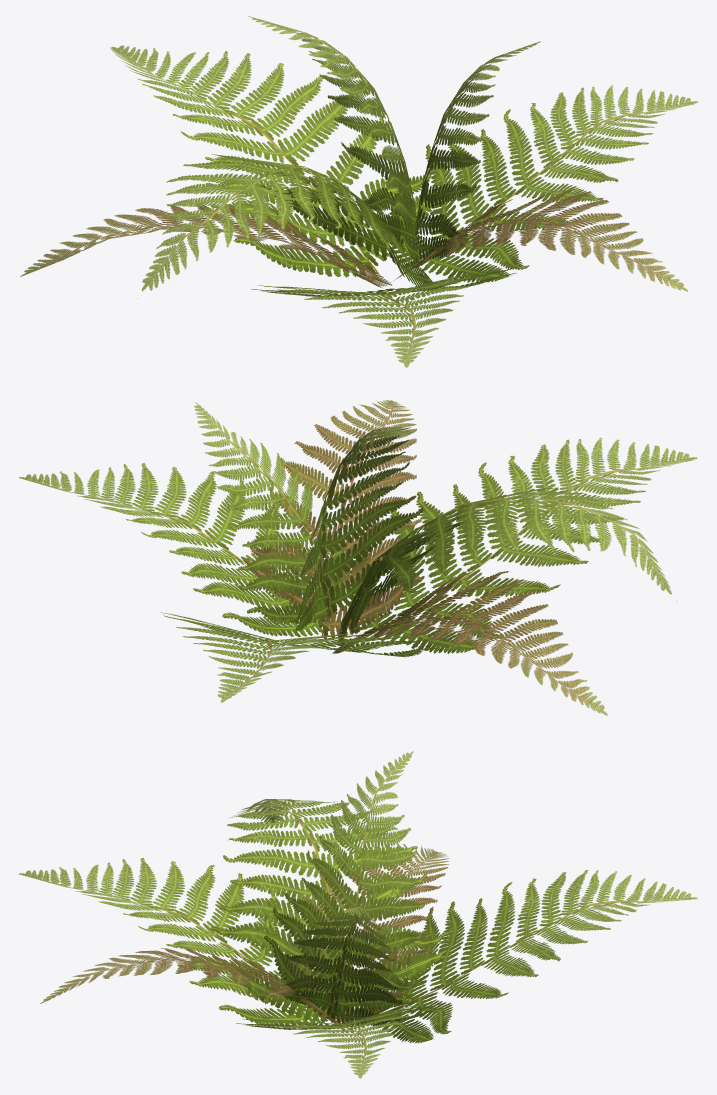
Rendered from SM_Plant_Grass_Fern_01.gltf.
3 views of the same model, one above another, from view 1: azimuth 30°, elevation 25°; view 2: azimuth 150°, elevation 25°; view 3: azimuth 270°, elevation 25° (orthographic). The views are drawn at different scales.
Visible parts, largest first — view 1: SM_Plant_Grass_Fern_01; view 2: SM_Plant_Grass_Fern_01; view 3: SM_Plant_Grass_Fern_01.
Boxes of the visible parts, x1,y1,x2,y2 form: SM_Plant_Grass_Fern_01: (20, 16, 697, 367); SM_Plant_Grass_Fern_01: (18, 400, 697, 715); SM_Plant_Grass_Fern_01: (18, 751, 697, 1078).
Bounding box in the file's own units: 1.5 × 0.5916 × 1.58.
1 material, 1 textured.
